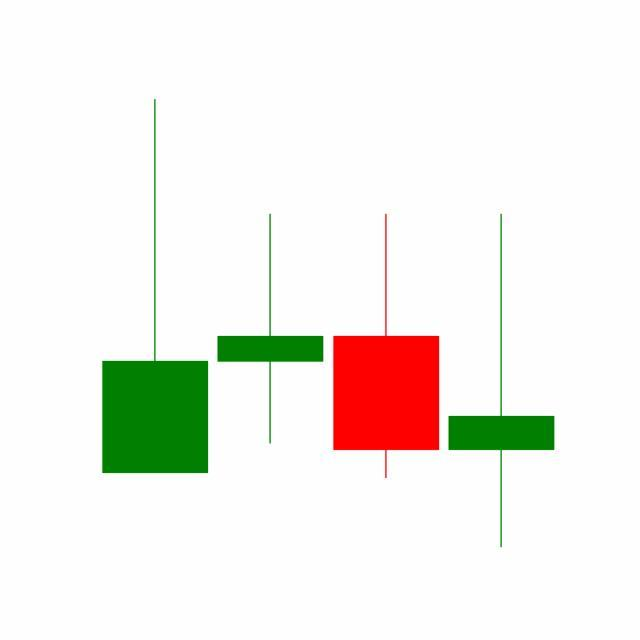Spinning Top: (444, 211, 560, 552)
